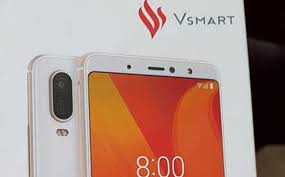vsmart: (81, 48, 226, 177)
